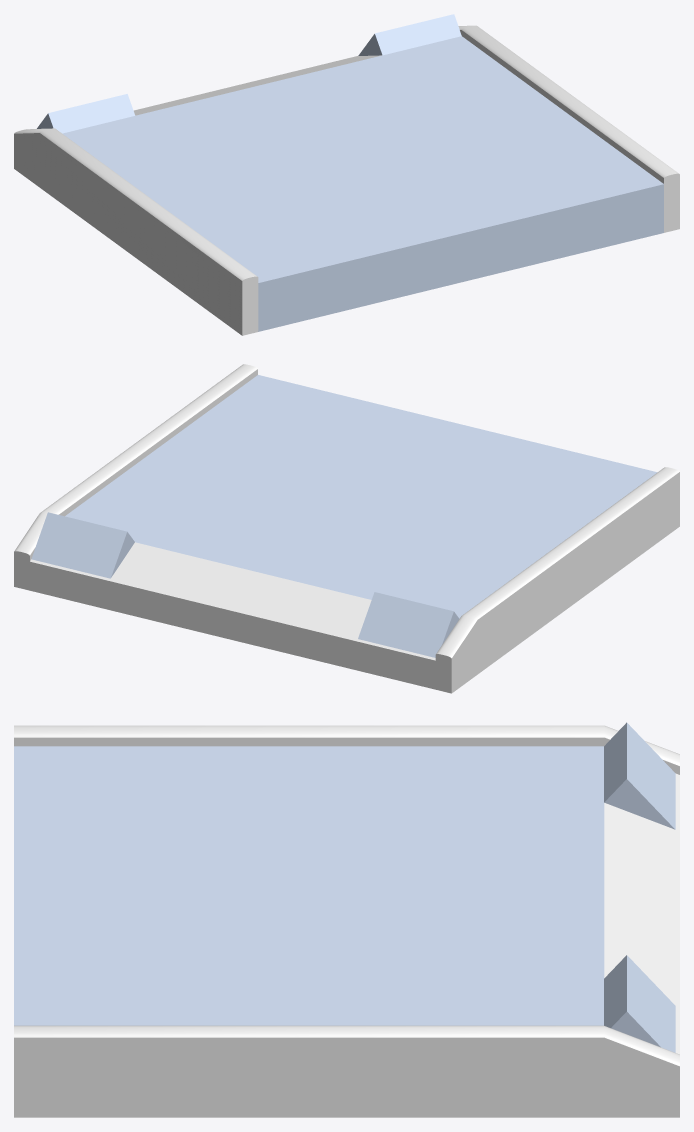
The model's file is finish_box.fbx.
The picture shows the model from 3 angles, top to bottom: view 1: azimuth 30°, elevation 25°; view 2: azimuth 150°, elevation 25°; view 3: azimuth 270°, elevation 25°; orthographic projection. The views are drawn at different scales.
Visible parts, largest first — view 1: finish_box.001, finish_box, text_box.001, text_box; view 2: finish_box.001, finish_box, text_box.001, text_box; view 3: finish_box.001, finish_box, text_box, text_box.001.
Part boxes in pixels (x1,y1,x2,y2): finish_box.001: (62, 36, 663, 331); finish_box: (14, 25, 679, 335); text_box.001: (358, 14, 461, 55); text_box: (37, 94, 135, 133); finish_box.001: (65, 375, 656, 618); finish_box: (14, 364, 679, 693); text_box.001: (31, 512, 134, 578); text_box: (358, 592, 459, 657); finish_box.001: (14, 746, 604, 1025); finish_box: (14, 725, 679, 1117); text_box: (604, 722, 675, 829); text_box.001: (604, 955, 675, 1052).
Bounding box in the file's own units: 771 × 110 × 696.
